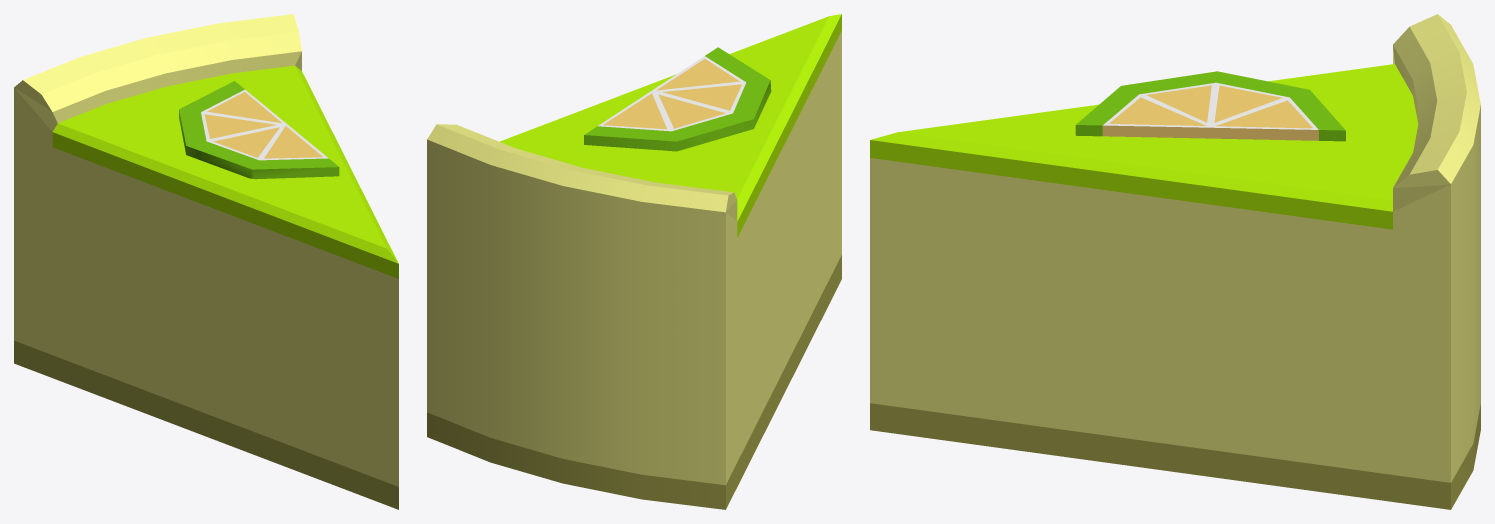
The model's file is PW_cheesecake_lime.fbx.
3 renders of one model, left to right at view 1: azimuth 30°, elevation 25°; view 2: azimuth 150°, elevation 25°; view 3: azimuth 270°, elevation 25°, orthographic. The views are drawn at different scales.
Visible parts, largest first — view 1: cheesecake_lime; view 2: cheesecake_lime; view 3: cheesecake_lime.
Boxes of the visible parts, x1=… form: cheesecake_lime: x1=14, y1=14, x2=398, y2=509; cheesecake_lime: x1=427, y1=14, x2=841, y2=509; cheesecake_lime: x1=870, y1=14, x2=1480, y2=509.
Bounding box in the file's own units: 20.08 × 19.85 × 32.49.
Materials: 1 (1 with a texture image).
